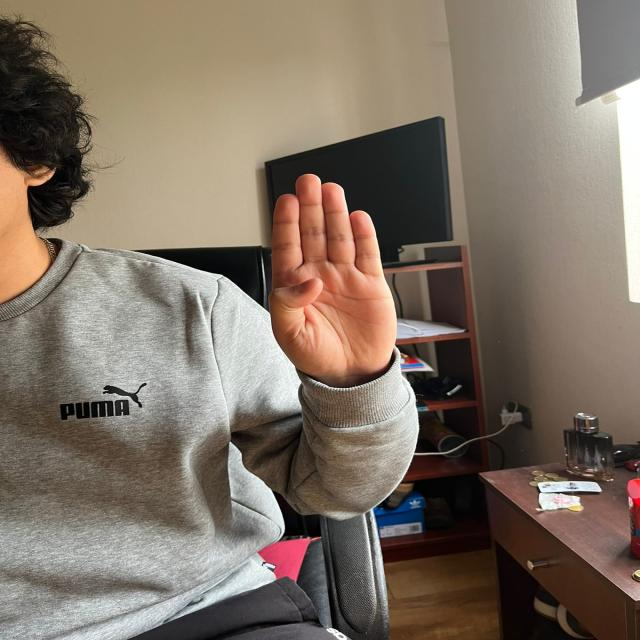B: (264, 170, 405, 383)
